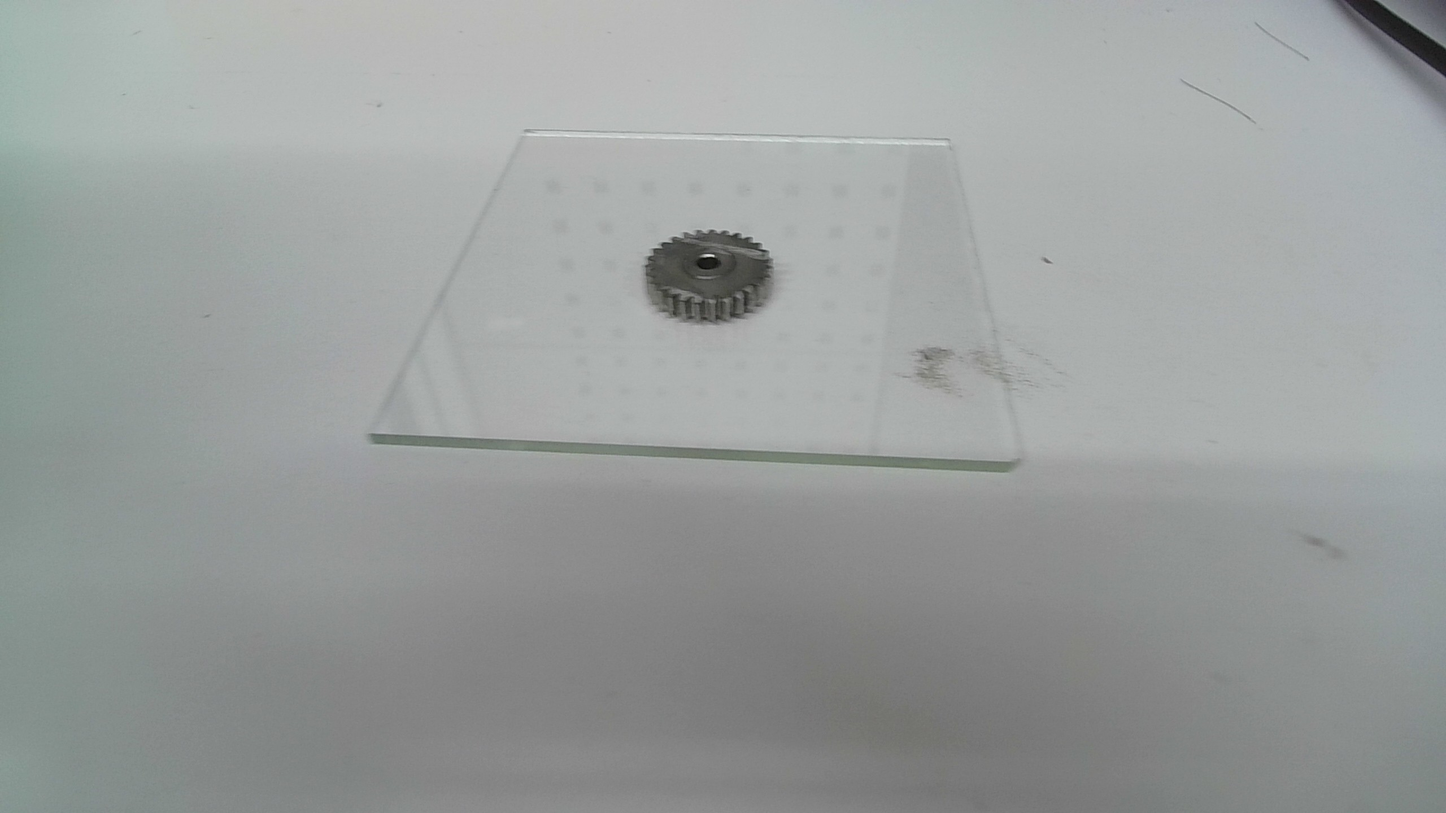gear: (641, 227, 775, 326)
